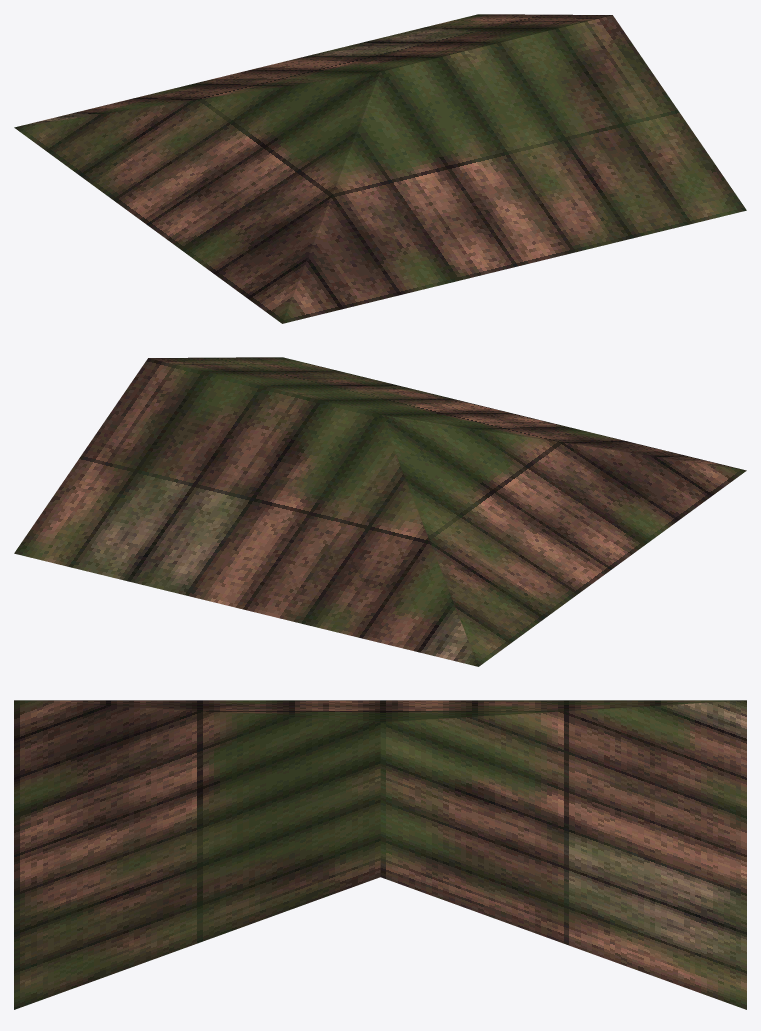
The model's file is roof_ridge_end.gltf.
The picture shows the model from 3 angles, top to bottom: view 1: azimuth 30°, elevation 25°; view 2: azimuth 150°, elevation 25°; view 3: azimuth 270°, elevation 25°; orthographic projection. The views are drawn at different scales.
Parts seen in each view (by area): view 1: roof_ridge_end-col; view 2: roof_ridge_end-col; view 3: roof_ridge_end-col.
Part boxes in pixels (x1,y1,x2,y2): roof_ridge_end-col: (14, 14, 746, 323); roof_ridge_end-col: (14, 357, 746, 666); roof_ridge_end-col: (14, 700, 746, 1009).
Size of the model in its own units: 2 by 0.42 by 2.
2 materials, 2 textured.
